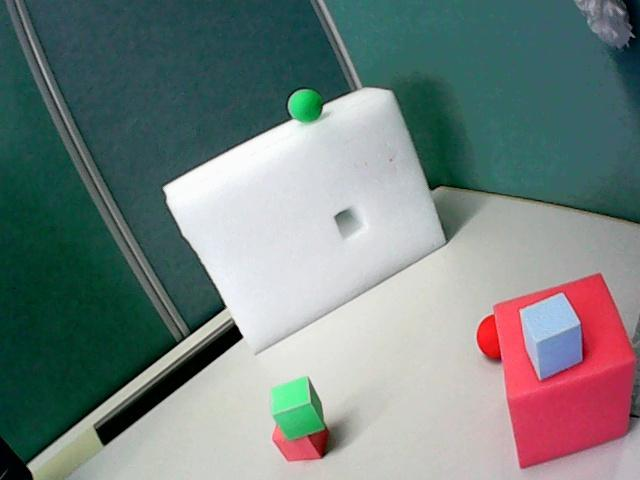blue_block: (520, 293, 582, 379)
red_block: (494, 274, 634, 467), (272, 425, 328, 460)
